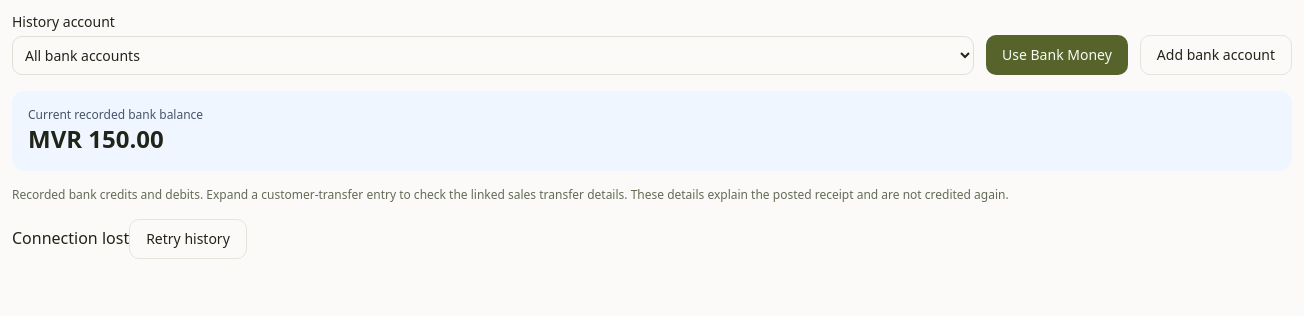
Test: reports read failure and retries without posting a transaction
The width and height of the screenshot is (1304, 316).
expect the message shows "Connection lost": met, box [12,227,129,249]
Click the button "Retry history": (188, 239) [129,219,247,259]
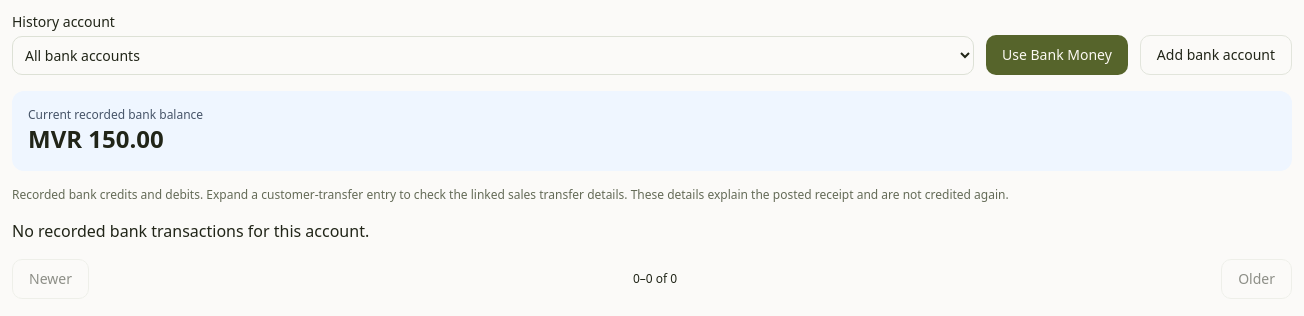
expect the text "No recorded bank transactions for this account." is shown: met, box [12,220,369,242]
